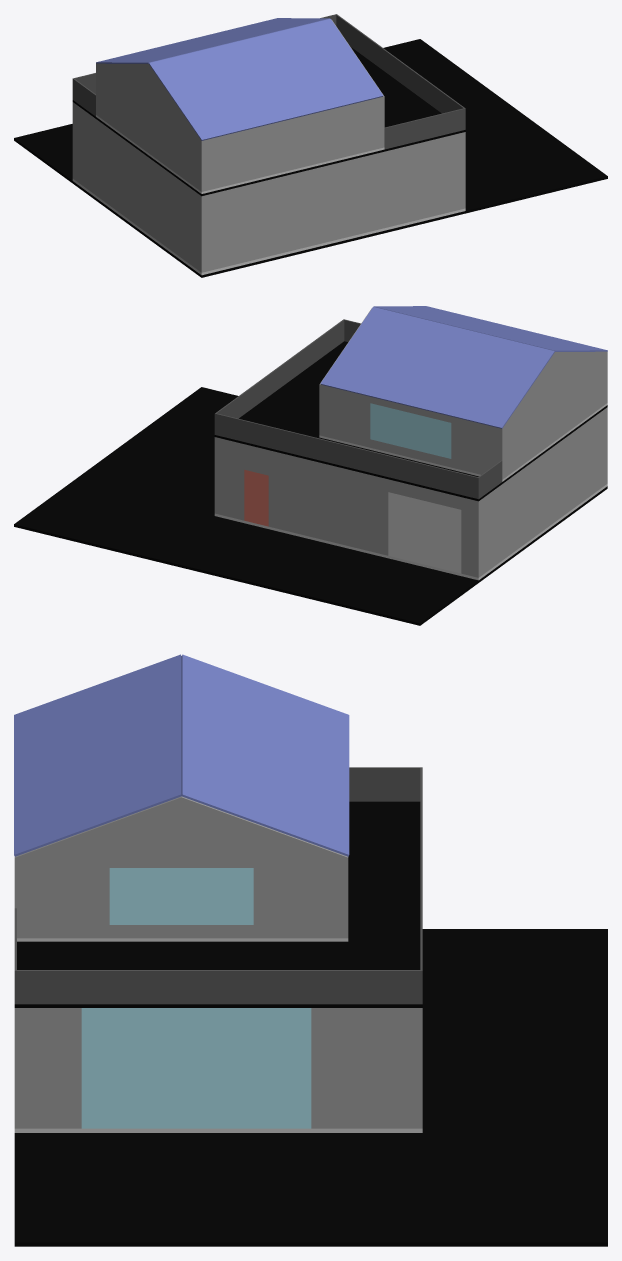
File: home_model.glb
The picture shows the model from 3 angles, top to bottom: view 1: azimuth 30°, elevation 25°; view 2: azimuth 150°, elevation 25°; view 3: azimuth 270°, elevation 25°; orthographic projection. The views are drawn at different scales.
Visible parts, largest first — view 1: home right, Body1.017, yard mesh, home back, level 1 right, level 1 back, upper level yard, roof 1, upper level wall 3, roof tri back, upper level wall 4, first level floor (+3 smaller); view 2: yard mesh, roof 1, home left, home back, level 1 left, upper level wall 2, level 1 back, upper level yard, glass mesh, upper window mesh 1, upper level wall 3, Body1.017 (+5 smaller); view 3: yard mesh, garage mesh, roof 1, Body1.017, upper level yard, level 1 front, upper level wall 3, home front, roof tri front, upper window mesh 2, home front 2, upper level wall 1 (+2 smaller).
Part boxes in pixels (x1,y1,x2,y2): home right: [203, 132, 464, 272]; Body1.017: [149, 19, 383, 140]; yard mesh: [14, 39, 607, 277]; home back: [72, 102, 202, 272]; level 1 right: [201, 96, 384, 191]; level 1 back: [96, 64, 200, 191]; upper level yard: [72, 46, 465, 196]; roof 1: [96, 18, 330, 63]; upper level wall 3: [336, 14, 465, 129]; roof tri back: [96, 63, 201, 140]; upper level wall 4: [384, 108, 464, 149]; first level floor: [72, 179, 465, 275]; yard mesh: [14, 387, 607, 625]; roof 1: [320, 307, 554, 428]; home left: [216, 437, 477, 577]; home back: [477, 407, 607, 577]; level 1 left: [319, 384, 502, 479]; upper level wall 2: [216, 413, 479, 499]; level 1 back: [503, 352, 606, 478]; upper level yard: [214, 341, 607, 501]; glass mesh: [388, 492, 461, 573]; upper window mesh 1: [370, 403, 451, 458]; upper level wall 3: [214, 319, 344, 434]; Body1.017: [373, 306, 607, 351]; yard mesh: [14, 929, 607, 1246]; garage mesh: [81, 1008, 311, 1128]; roof 1: [181, 654, 349, 856]; Body1.017: [14, 654, 181, 856]; upper level yard: [14, 801, 422, 1007]; level 1 front: [17, 857, 346, 938]; upper level wall 3: [14, 970, 422, 1004]; home front: [311, 1008, 422, 1128]; roof tri front: [14, 796, 348, 857]; upper window mesh 2: [109, 868, 253, 924]; home front 2: [14, 1008, 81, 1128]; upper level wall 1: [349, 767, 420, 801].
Size of the model in its own units: 1 by 0.4148 by 0.8011.
